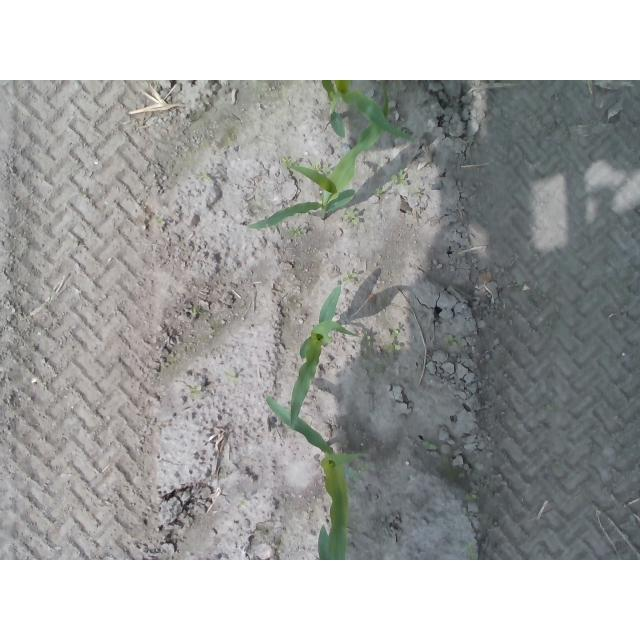Maize: (265, 396, 370, 561), (248, 124, 381, 229), (290, 282, 362, 431), (319, 80, 414, 142)
Weeds: (312, 161, 333, 176), (389, 329, 401, 352), (393, 168, 407, 185), (345, 209, 360, 223), (188, 384, 202, 398), (466, 490, 479, 502), (287, 227, 301, 238), (446, 334, 457, 347), (422, 441, 437, 450), (283, 158, 297, 167), (190, 308, 204, 316), (376, 185, 385, 195)
